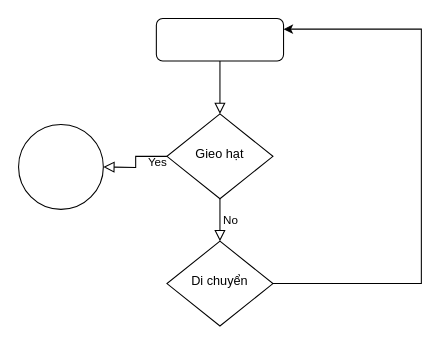
Some shapes in this 448 by 344 pixel diagram are drawn without their labels. Here are the shapes that lost their labels. From the top down, the box of each, then its label:
(155, 17, 284, 61): Hoạt động
(17, 123, 103, 209): Servo gieo hạt chạy
